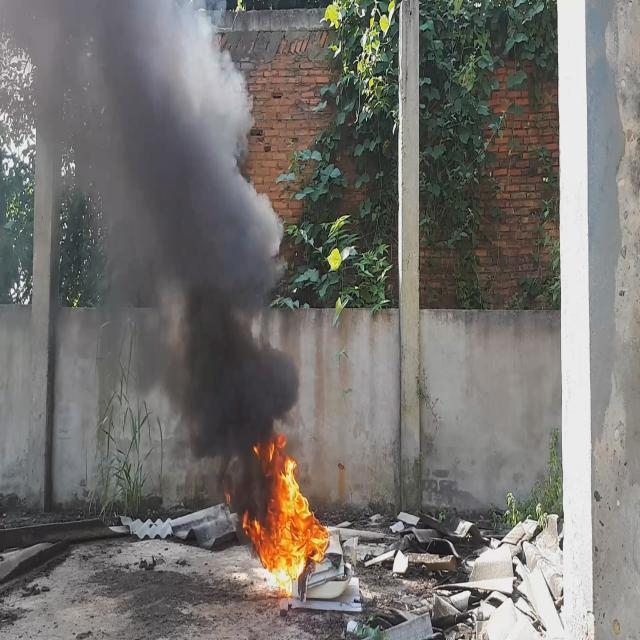Fire: (242, 436, 335, 609)
Smoke: (0, 0, 299, 519)
